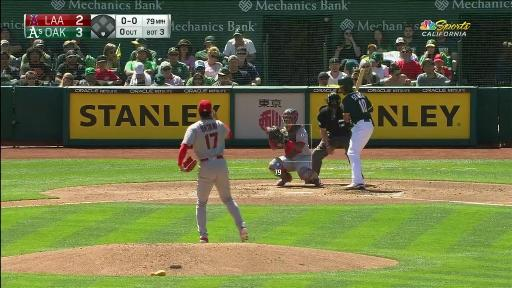pitcher: (179, 98, 252, 242)
